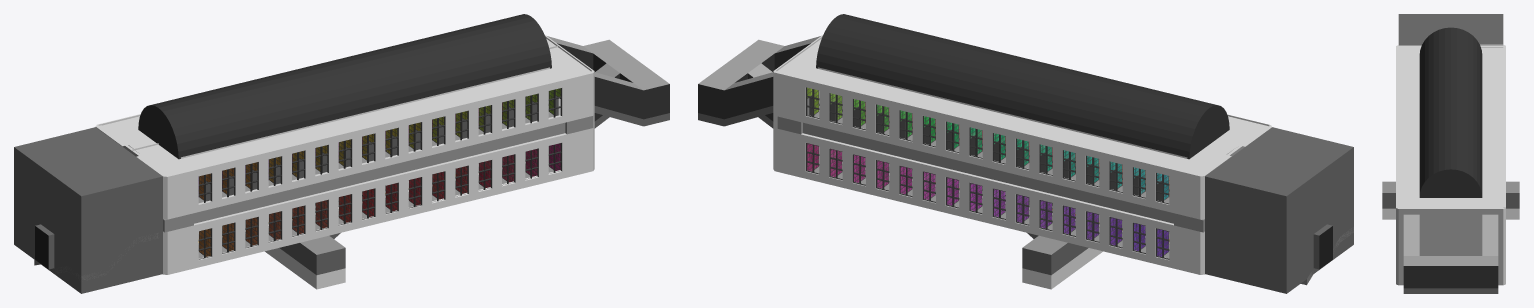
The model's file is theLongRoomV2.glb.
3 views of the same model, side by side, from view 1: azimuth 30°, elevation 25°; view 2: azimuth 150°, elevation 25°; view 3: azimuth 270°, elevation 25° (orthographic). The views are drawn at different scales.
Parts seen in each view (by area): view 1: Ceiling, StairwellSouth, Windows, Windows.001, SkylightLattice, ShelvesBooks, StairwellNorth, Floor2spacer, Shelves, Floor, Floor2spacer.001; view 2: Ceiling, StairwellSouth, Windows, Windows.001, SkylightLattice, ShelvesBooks, StairwellNorth, Floor2spacer, Shelves, Floor, Floor2spacer.001; view 3: Ceiling, SkylightLattice, StairwellNorth, Windows, StairwellSouth, Floor, Windows.001, Walls.
Part boxes in pixels (x1,y1,x2,y2): Ceiling: [138, 14, 551, 159]; StairwellSouth: [14, 127, 162, 293]; Windows: [163, 34, 594, 274]; Windows.001: [95, 72, 593, 219]; SkylightLattice: [98, 36, 591, 175]; ShelvesBooks: [198, 88, 560, 256]; StairwellNorth: [547, 36, 669, 128]; Floor2spacer: [194, 112, 565, 223]; Shelves: [198, 88, 560, 256]; Floor: [198, 152, 553, 289]; Floor2spacer.001: [163, 97, 593, 232]; Ceiling: [816, 14, 1229, 159]; StairwellSouth: [1205, 127, 1353, 293]; Windows: [773, 34, 1204, 274]; Windows.001: [774, 71, 1271, 219]; SkylightLattice: [776, 36, 1269, 174]; ShelvesBooks: [807, 87, 1169, 256]; StairwellNorth: [698, 36, 820, 128]; Floor2spacer: [802, 112, 1173, 223]; Shelves: [807, 88, 1169, 256]; Floor: [814, 152, 1169, 289]; Floor2spacer.001: [777, 96, 1204, 232]; Ceiling: [1419, 27, 1482, 197]; SkylightLattice: [1398, 45, 1503, 207]; StairwellNorth: [1403, 214, 1498, 293]; Windows: [1396, 207, 1505, 285]; StairwellSouth: [1398, 14, 1503, 44]; Floor: [1382, 181, 1519, 219]; Windows.001: [1396, 44, 1505, 207]; Walls: [1398, 54, 1502, 200].
Bounding box in the file's own units: 102 × 29.01 × 26.25.
10 materials, 1 textured.
